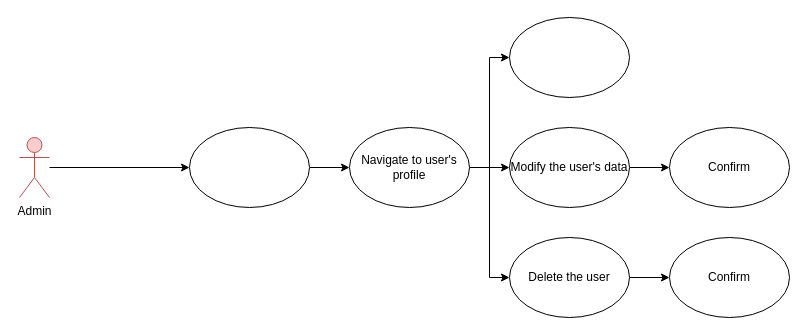
Some shapes in this 807 by 335 pixel diagram are drawn without their labels. Each missing label, with the box of its shape:
Login to Website: (188, 126, 310, 208)
View the user's data: (508, 16, 630, 98)
